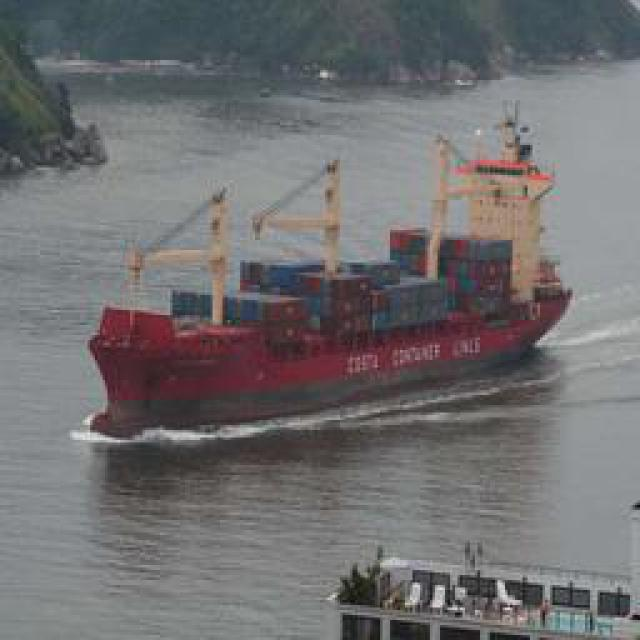Ship: (80, 144, 573, 439)
